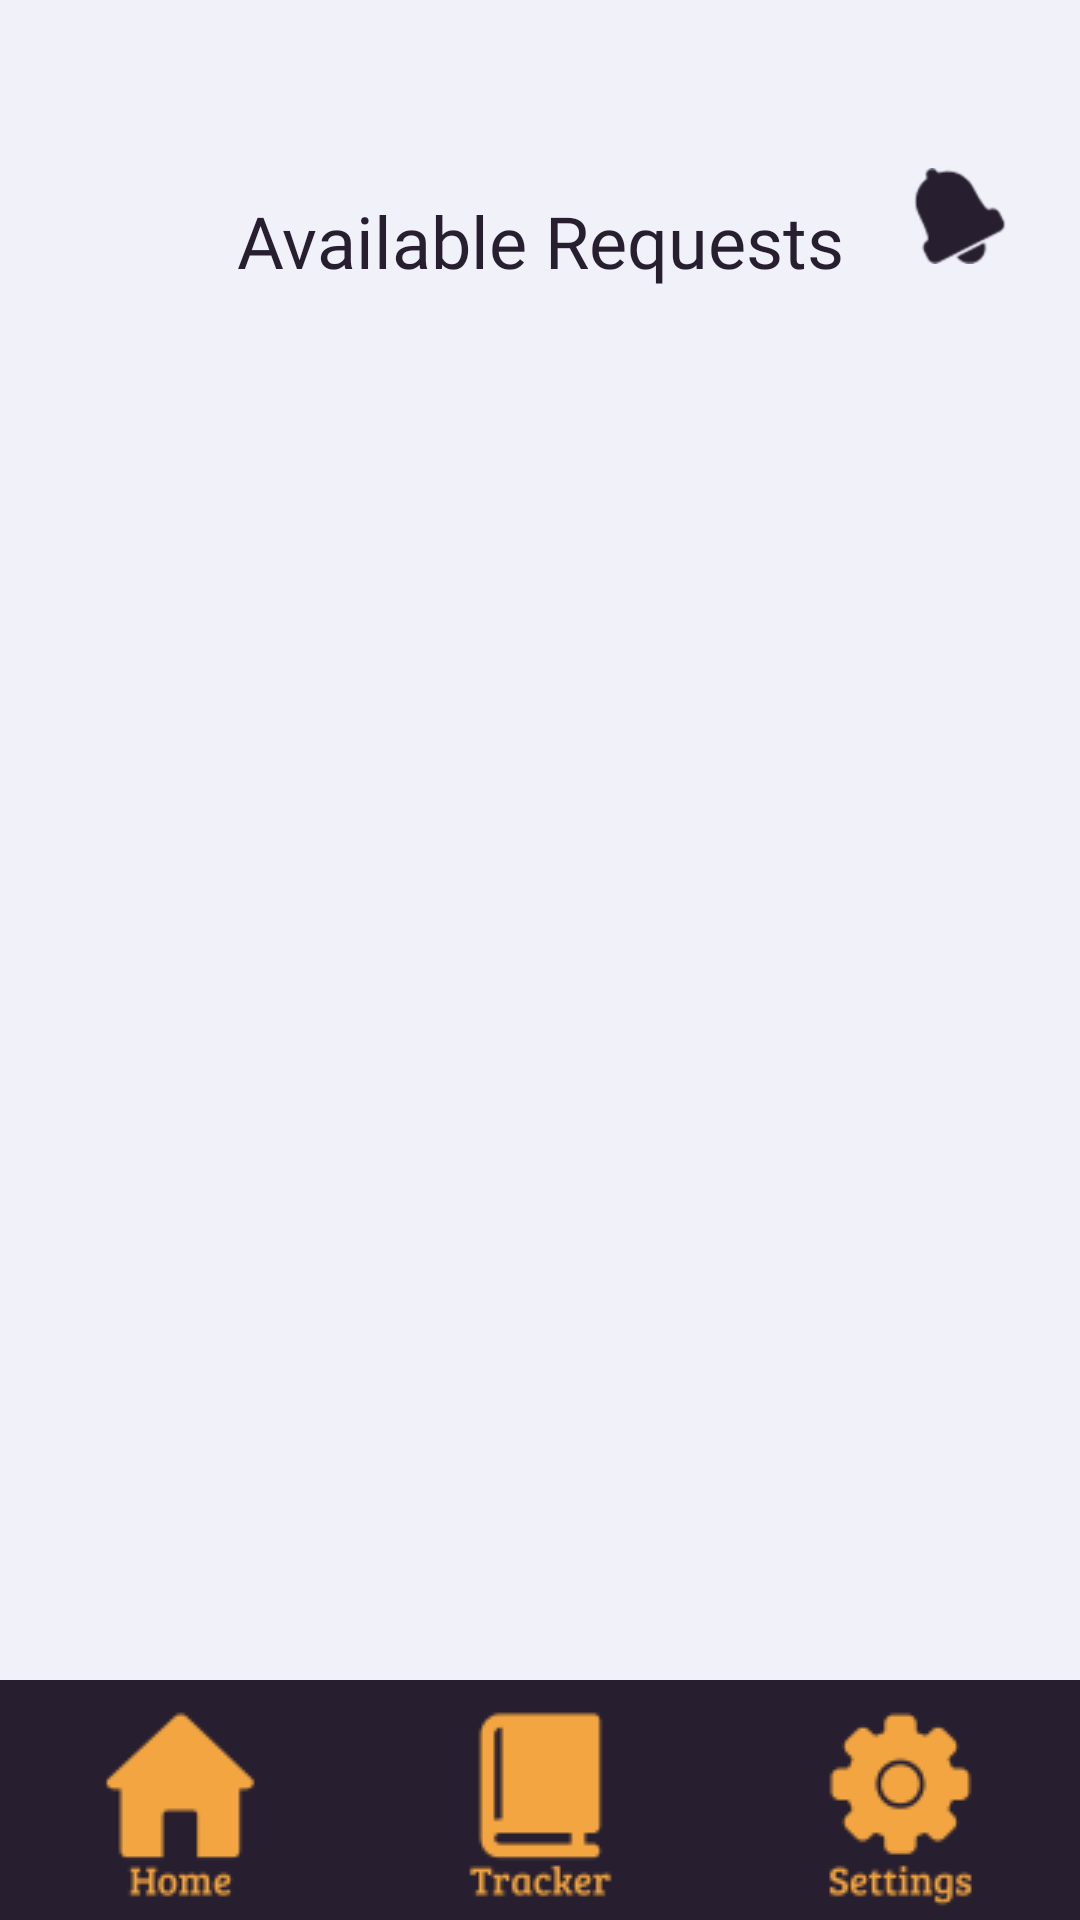

Where to tap for icons on this 1080px×1920px app screen, as [x,y]:
Notifications: [960,216]
